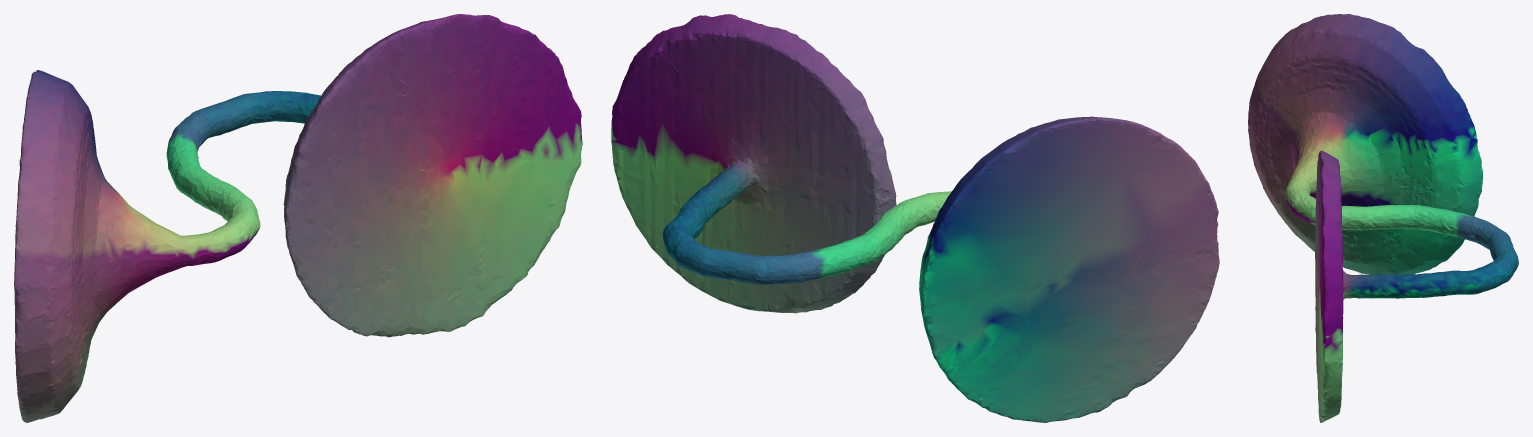
File: lamp-5.off.obj
3 renders of one model, left to right at view 1: azimuth 30°, elevation 25°; view 2: azimuth 150°, elevation 25°; view 3: azimuth 270°, elevation 25°, orthographic. The views are drawn at different scales.
Size of the model in its own units: 1.67 by 0.8378 by 0.8159.
